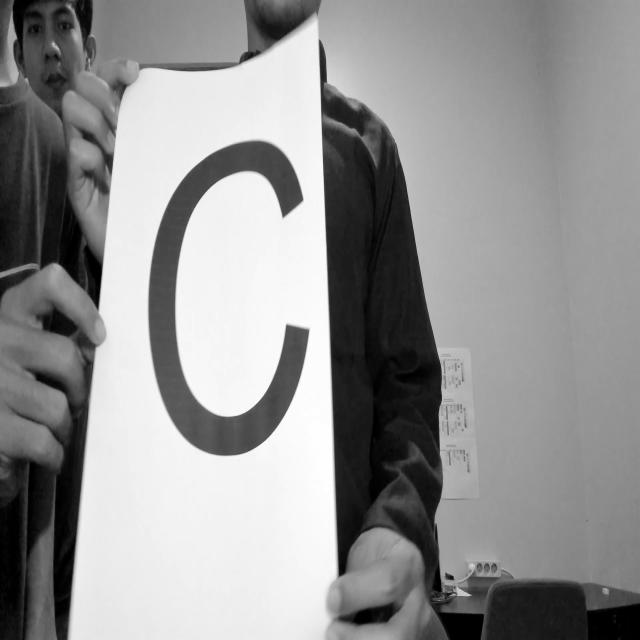c: (143, 128, 314, 471)
